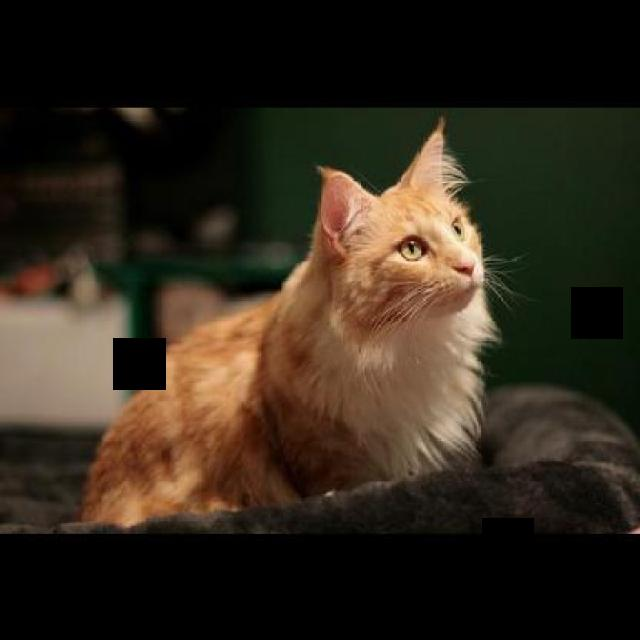unauthorized: (76, 114, 524, 528)
